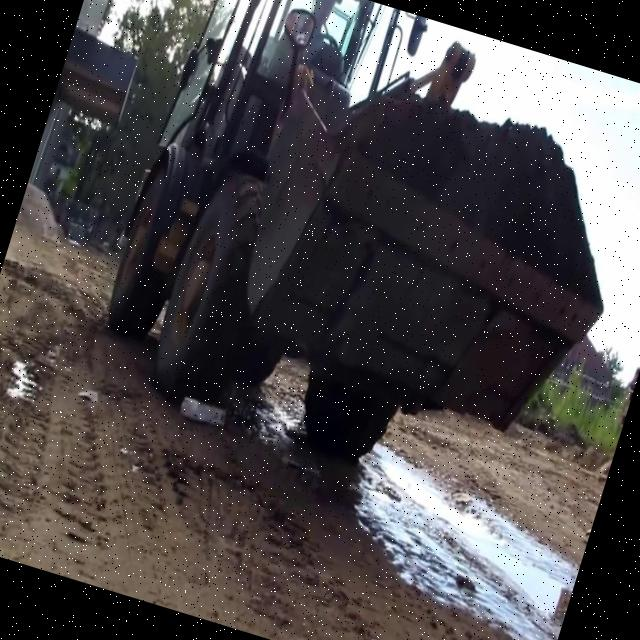Loader: (78, 0, 640, 519)
